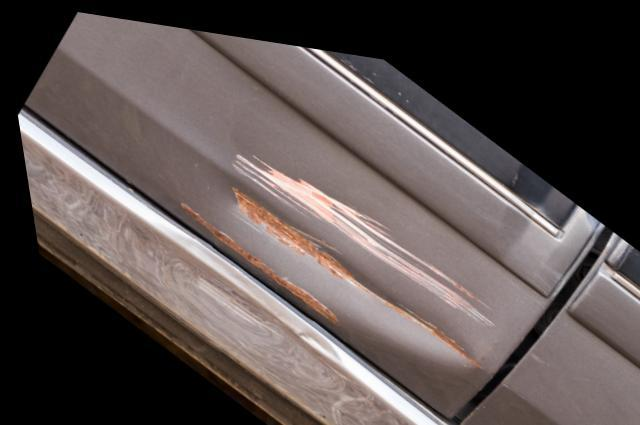dent: (204, 162, 468, 350)
scratch: (227, 144, 490, 312)
